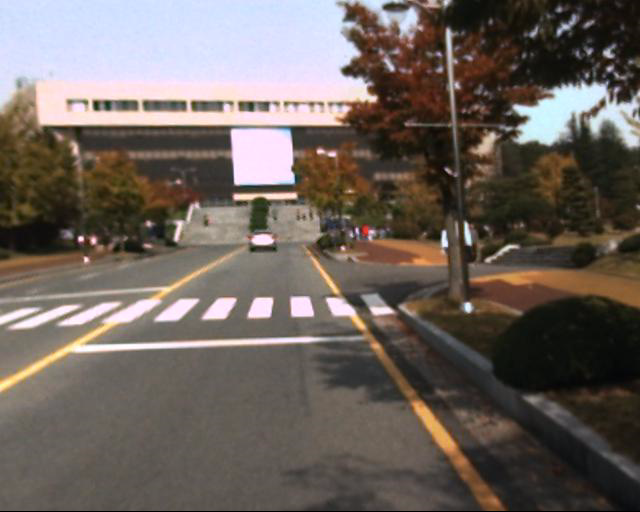person: (435, 210, 461, 269), (463, 211, 485, 263)
